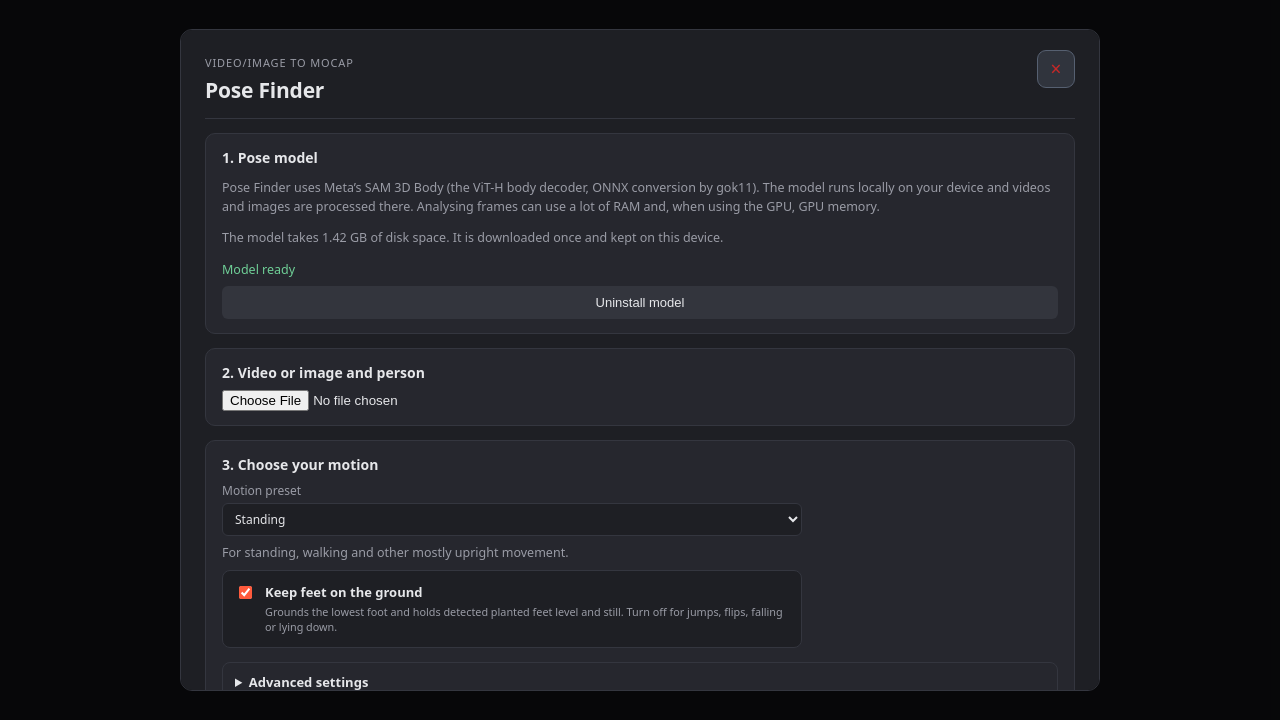
PoseFinderPanel › confirms uninstall and returns to the download step
The width and height of the screenshot is (1280, 720).
Click the button "Uninstall model" at (640, 302), box [222,286,1058,318]
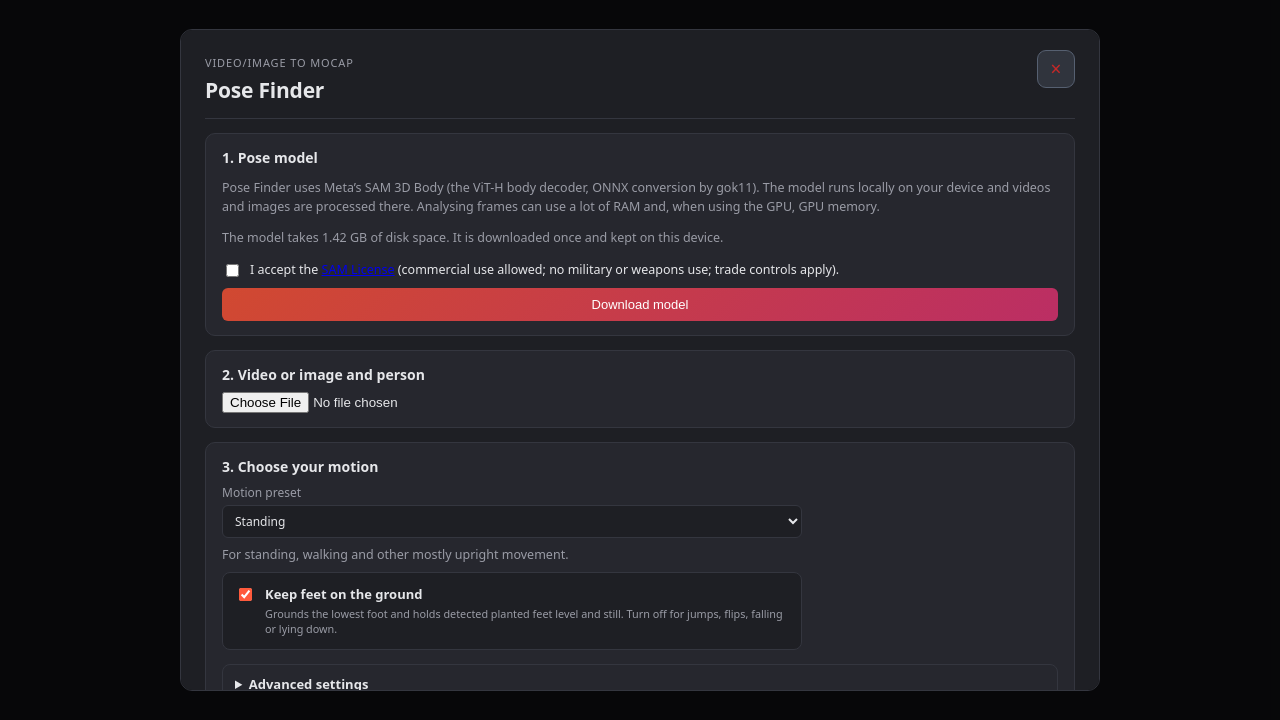
Expected: the button "Download model" is disabled, [222,288,1058,320]
